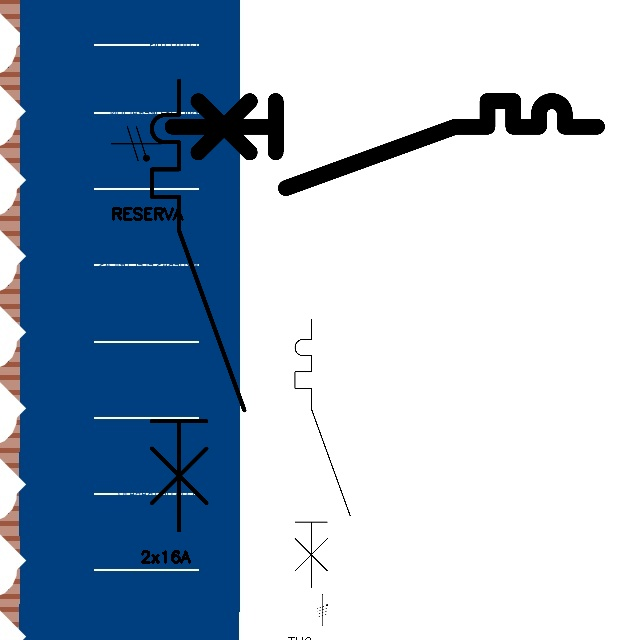interruptor_termomagnetico: (140, 69, 256, 542), (161, 90, 608, 199), (288, 312, 357, 594)
